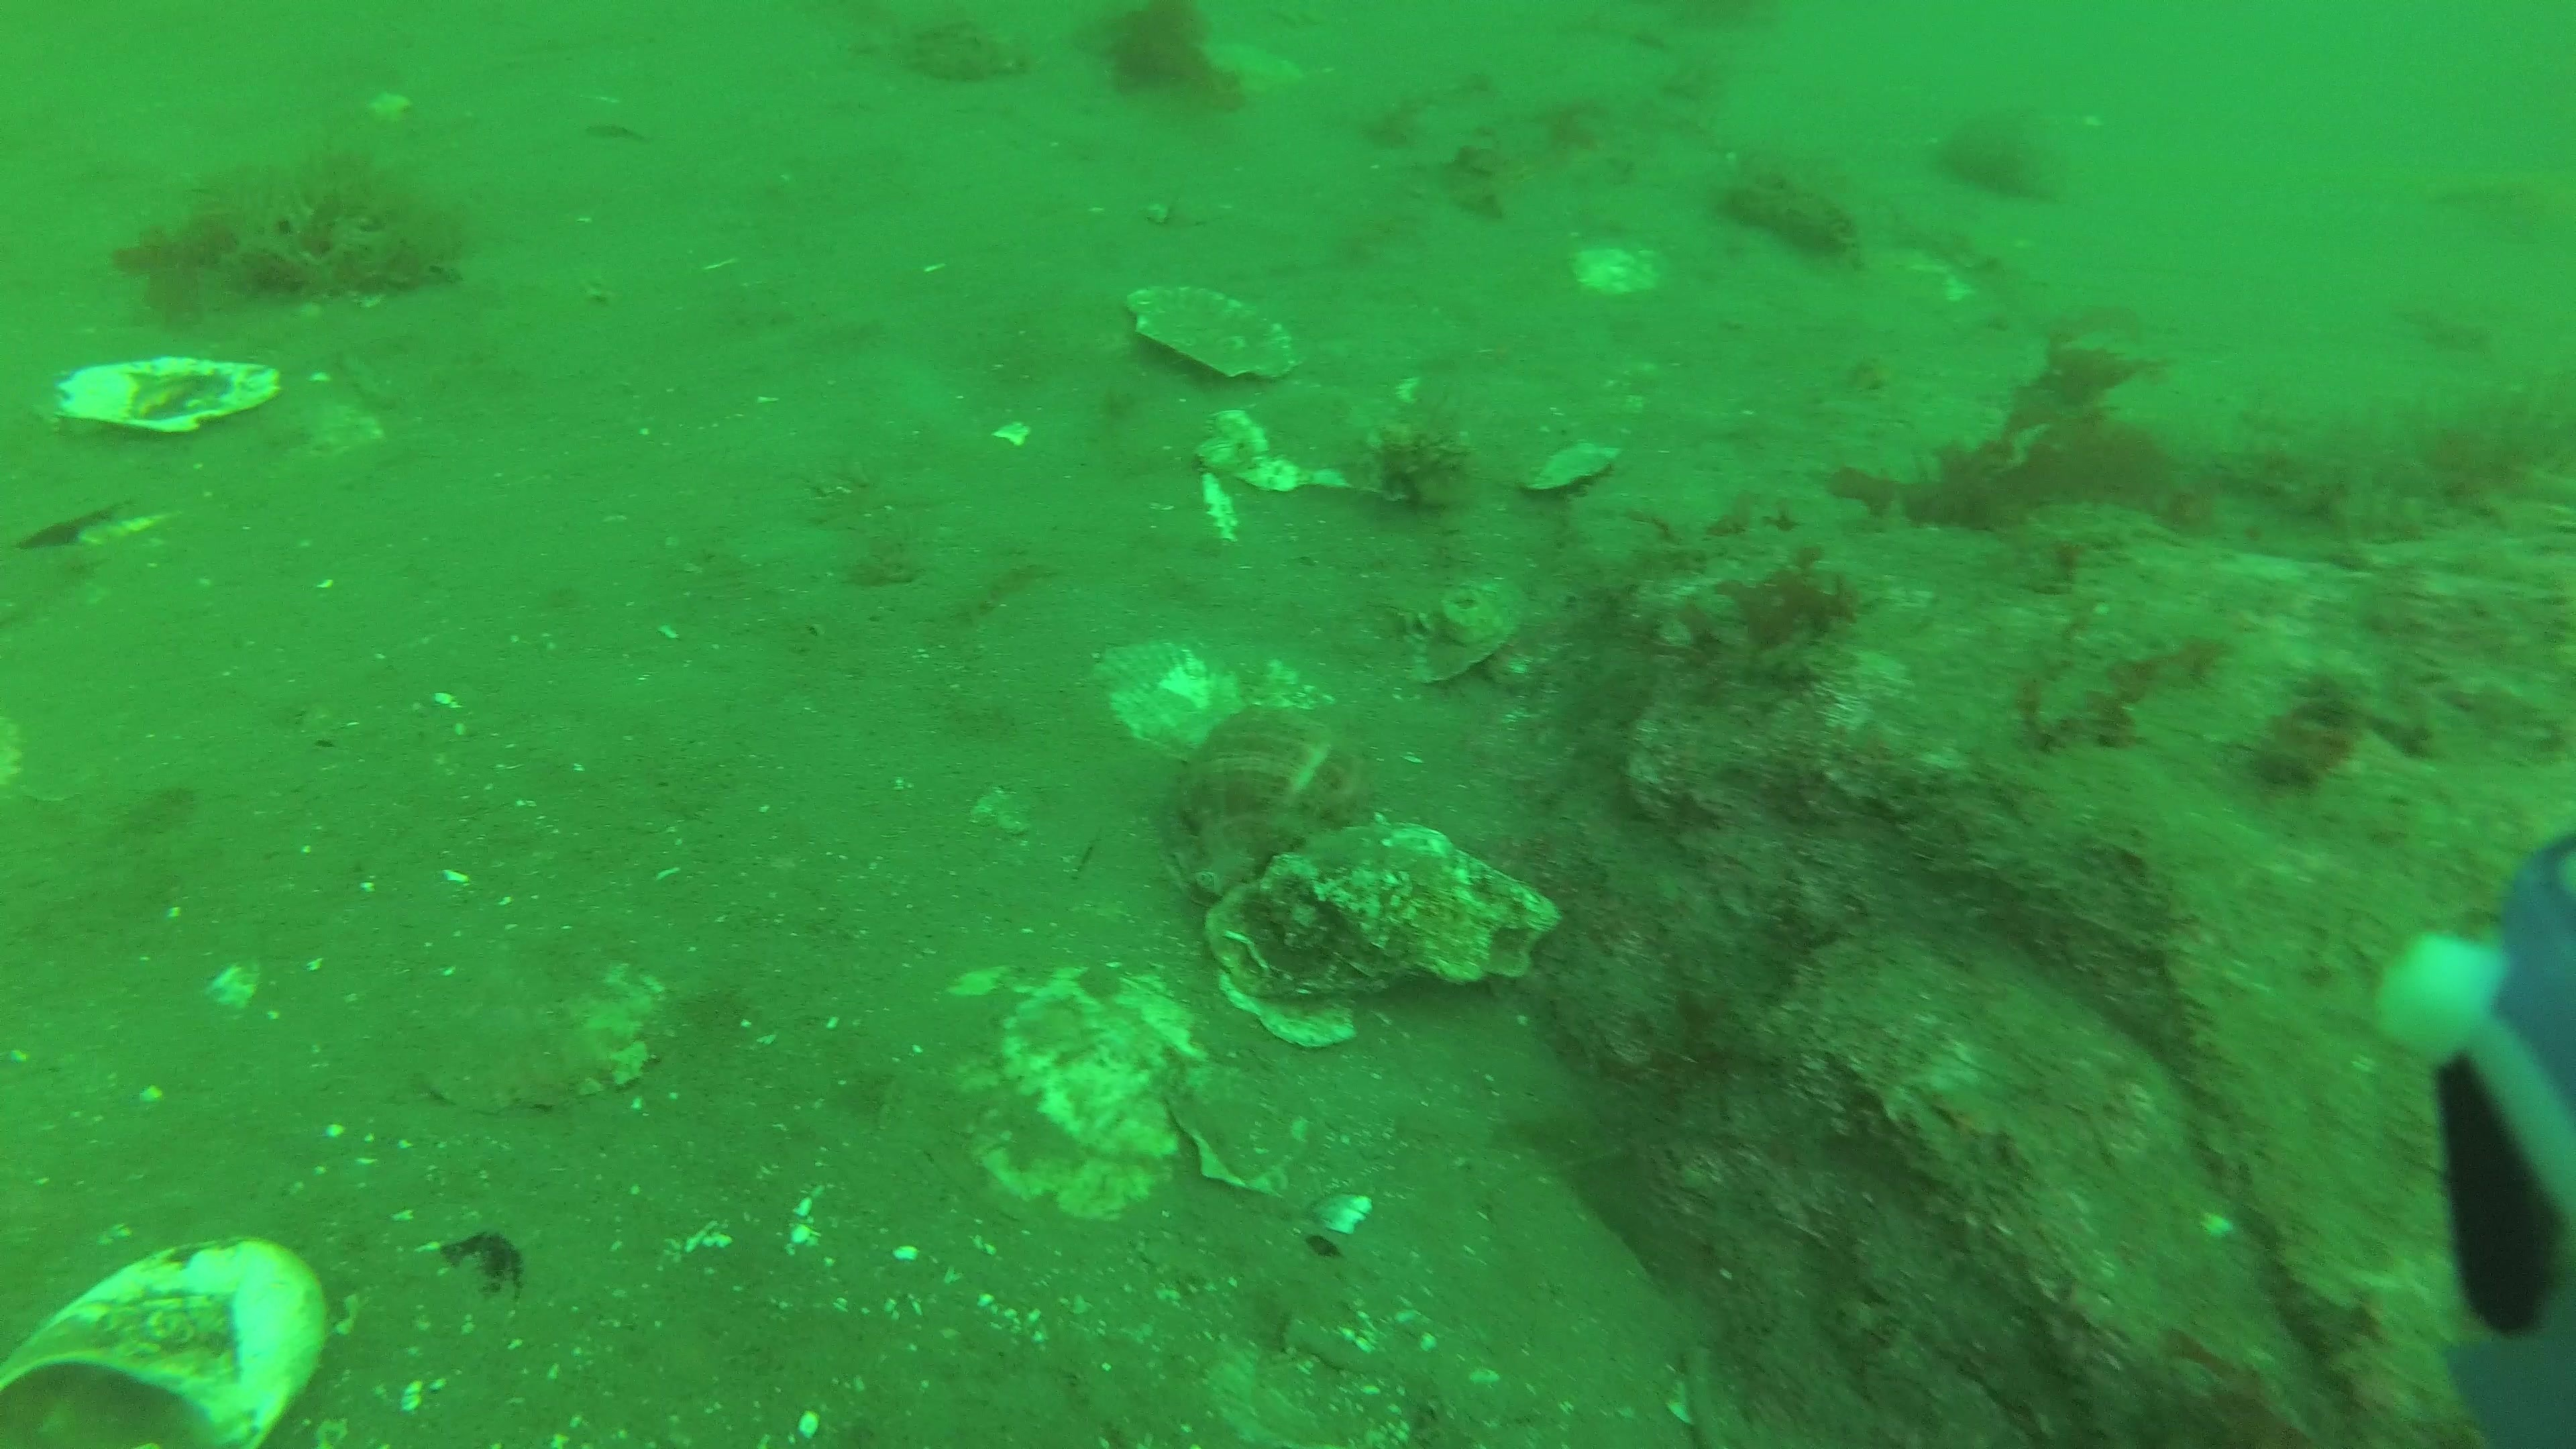scallop: (934, 952, 1207, 1230), (1085, 630, 1346, 771), (1113, 274, 1306, 386), (1166, 1054, 1307, 1196)
